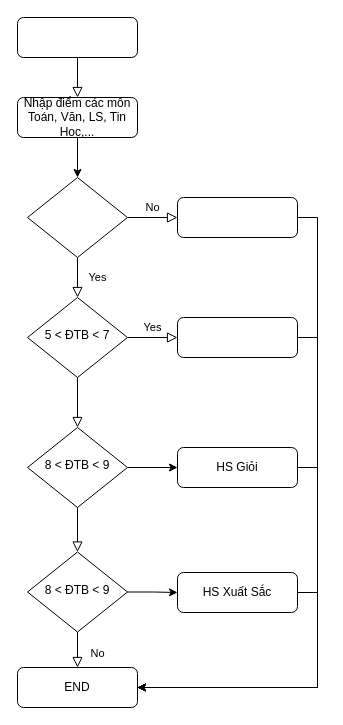
Image size: 343x725. Some labels were removed from this diagram. The centre of each missing label's shape, as x and y in pixels:
HS Khá: pixel 237 337
HS đạt loại TB: pixel 237 217
START: pixel 77 37
Điểm trung bình < 5: pixel 77 217
